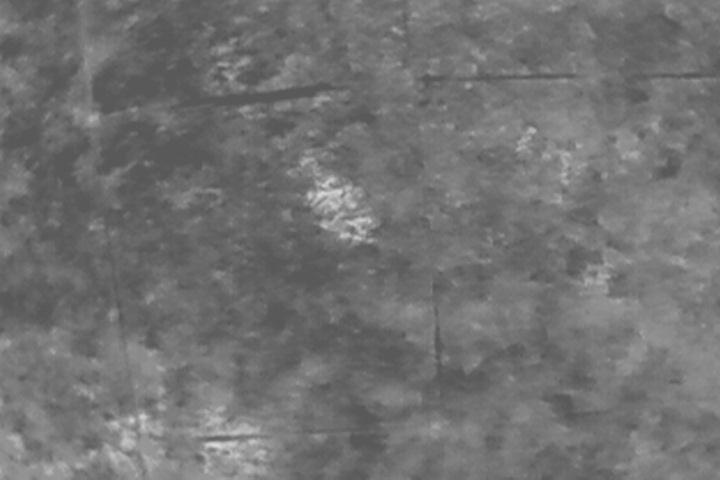landmine: (308, 175, 376, 245)
